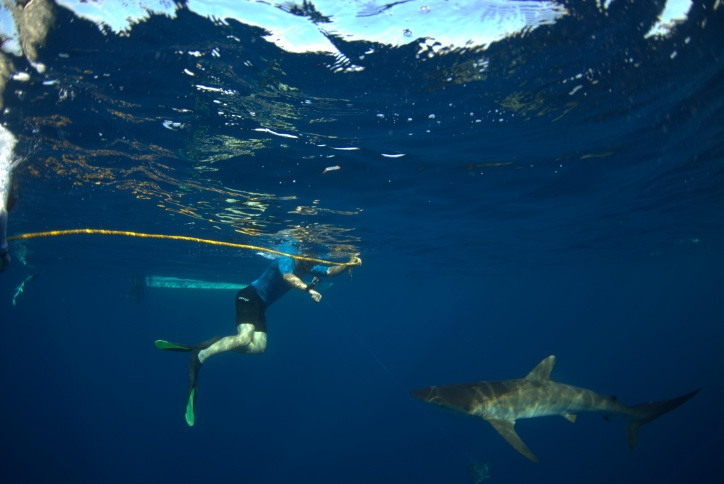Sedoso: (400, 350, 707, 470)
